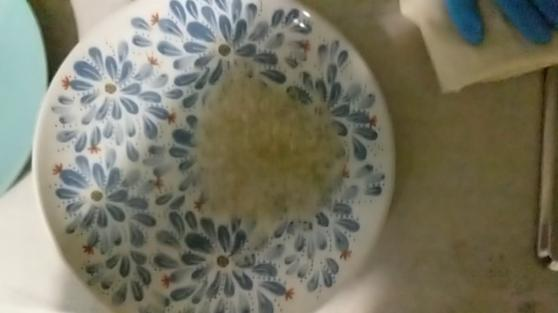rice: (180, 64, 349, 235)
